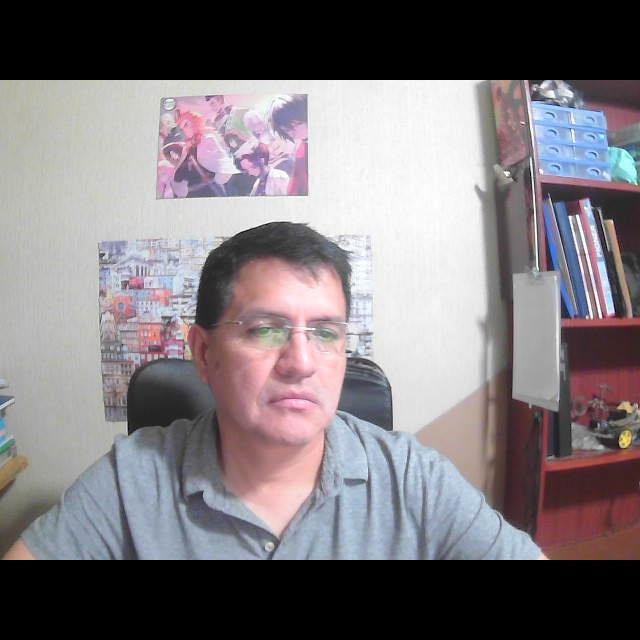cesar: (166, 210, 372, 472)
